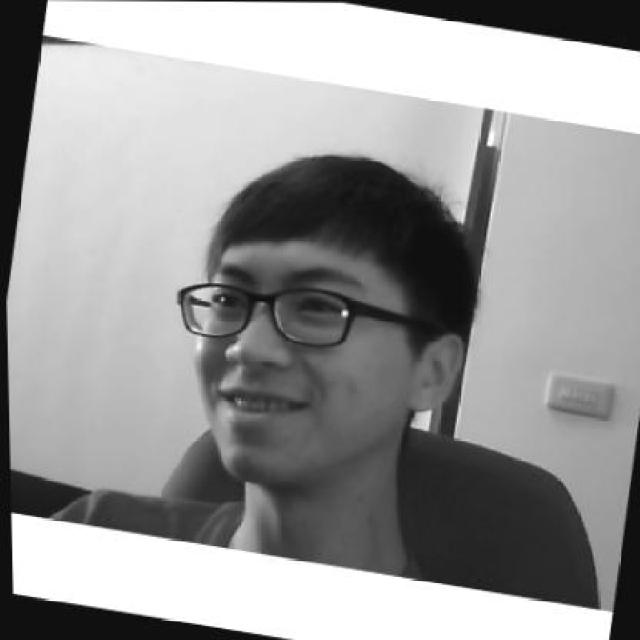attentif: (144, 128, 493, 514)
